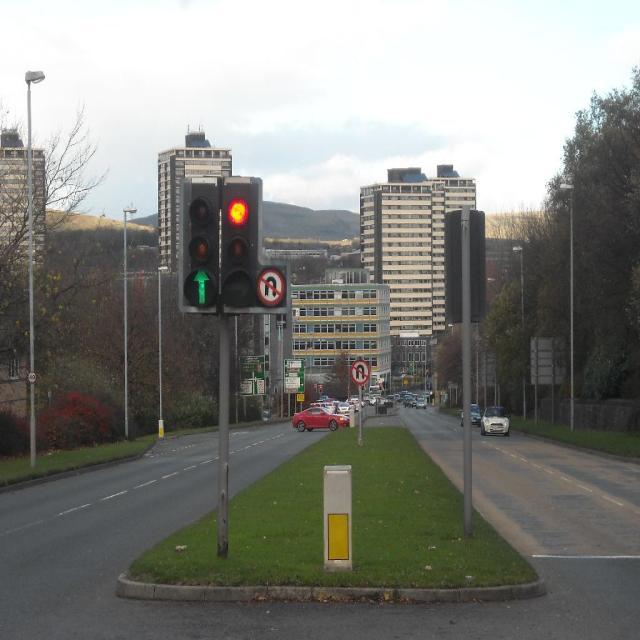traffic light: (180, 178, 219, 310), (217, 176, 255, 310)
